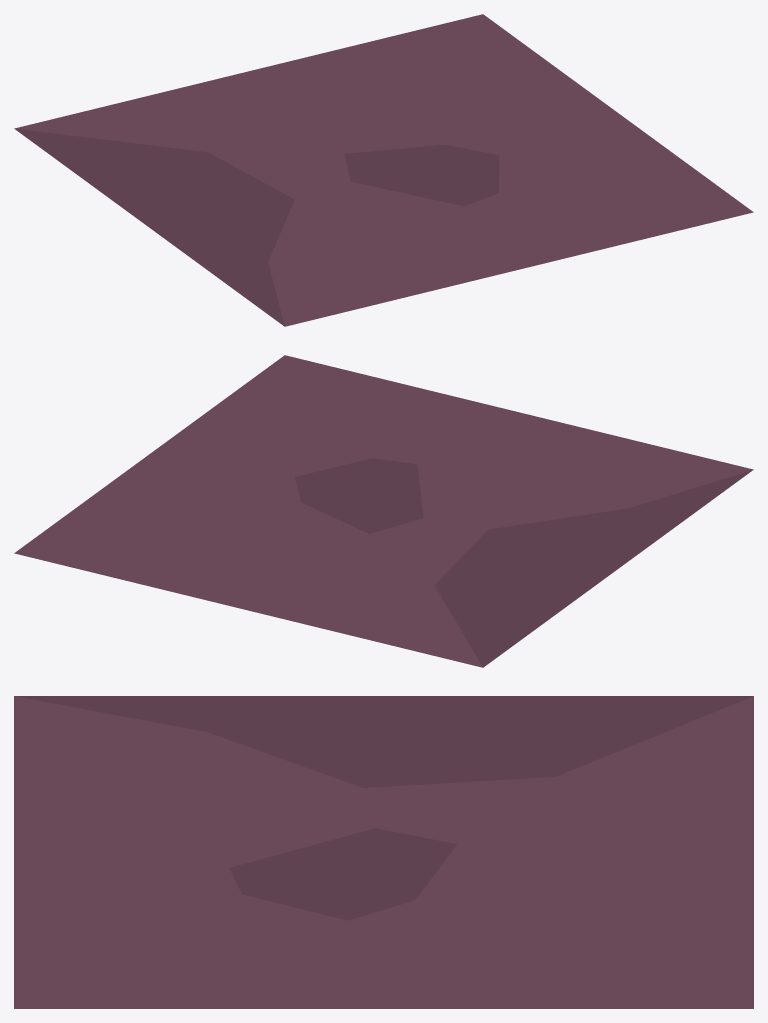
The model's file is AI_Env_Floor_05_Stained_01.fbx.
3 views of the same model, one above another, from view 1: azimuth 30°, elevation 25°; view 2: azimuth 150°, elevation 25°; view 3: azimuth 270°, elevation 25° (orthographic). The views are drawn at different scales.
Parts seen in each view (by area): view 1: AI_Env_Floor_05_Stained_01; view 2: AI_Env_Floor_05_Stained_01; view 3: AI_Env_Floor_05_Stained_01.
Boxes of the visible parts, x1,y1,x2,y2 form: AI_Env_Floor_05_Stained_01: [14, 14, 753, 326]; AI_Env_Floor_05_Stained_01: [14, 355, 753, 667]; AI_Env_Floor_05_Stained_01: [14, 696, 753, 1008].
Size of the model in its own units: 5 by 0 by 5.
